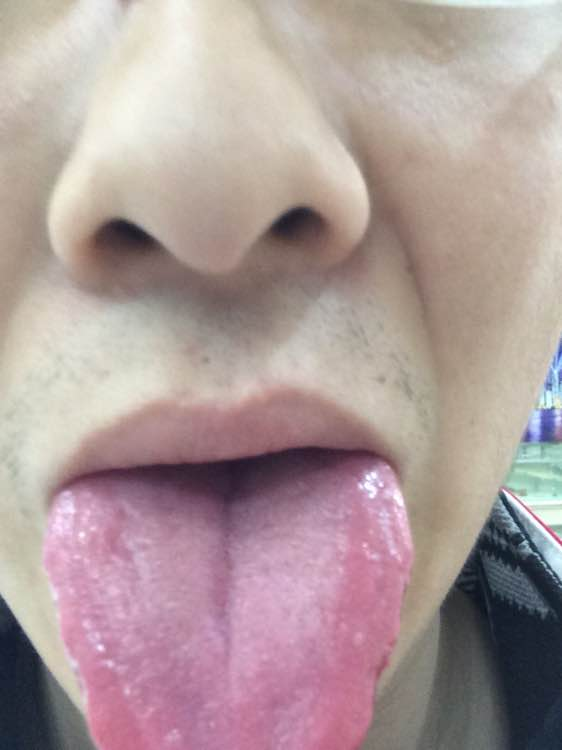baitaishe: (46, 447, 413, 750)
chihenshe: (48, 570, 93, 732)
hongshe: (46, 447, 413, 750)
